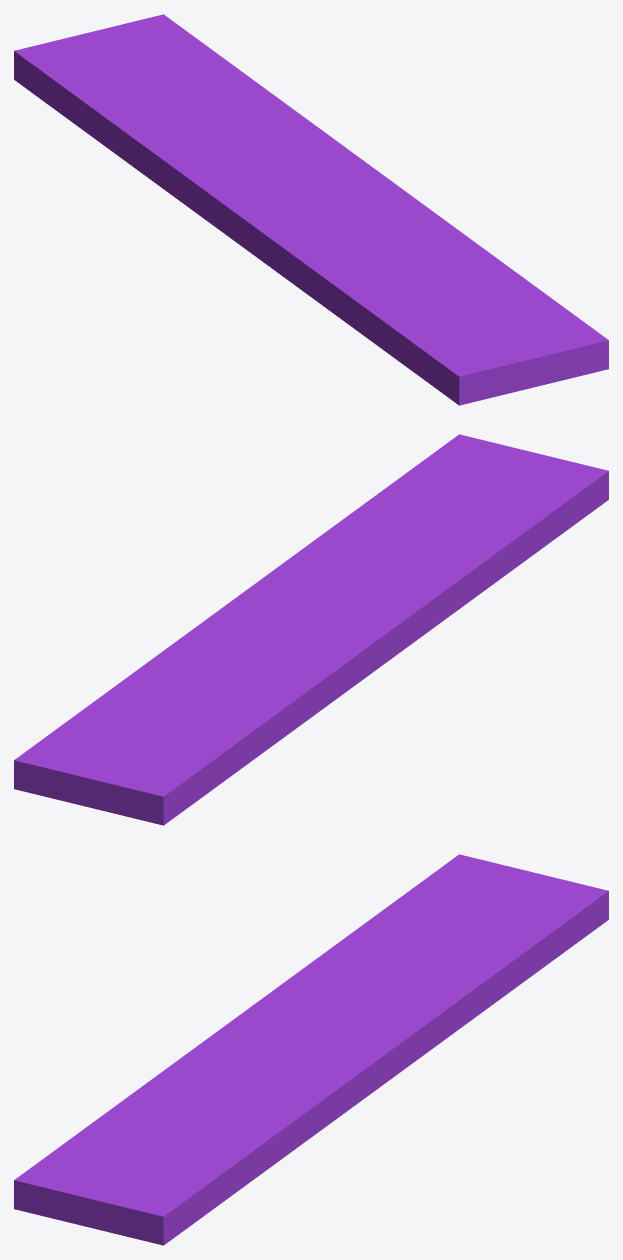
File: StairsStep_77_chunks.fbx
3 views of the same model, one above another, from view 1: azimuth 30°, elevation 25°; view 2: azimuth 150°, elevation 25°; view 3: azimuth 330°, elevation 25° (orthographic).
Parts seen in each view (by area): view 1: StairsStep_77_0, StairsStep_77_3, StairsStep_77_2; view 2: StairsStep_77_3, StairsStep_77_0, StairsStep_77_2; view 3: StairsStep_77_0, StairsStep_77_3, StairsStep_77_2.
Boxes of the visible parts, box(x1,y1,x2,y2) form: StairsStep_77_0: box(239, 195, 608, 405); StairsStep_77_3: box(14, 14, 310, 245); StairsStep_77_2: box(293, 109, 447, 222); StairsStep_77_3: box(14, 616, 390, 825); StairsStep_77_0: box(299, 434, 608, 658); StairsStep_77_2: box(144, 552, 310, 664); StairsStep_77_0: box(14, 1019, 324, 1245); StairsStep_77_3: box(234, 854, 608, 1034); StairsStep_77_2: box(312, 986, 479, 1128).
Bounding box in the file's own units: 157 × 28.98 × 810.
